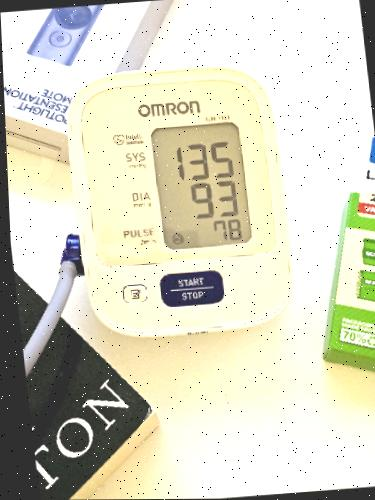bpm: (148, 117, 253, 254)
